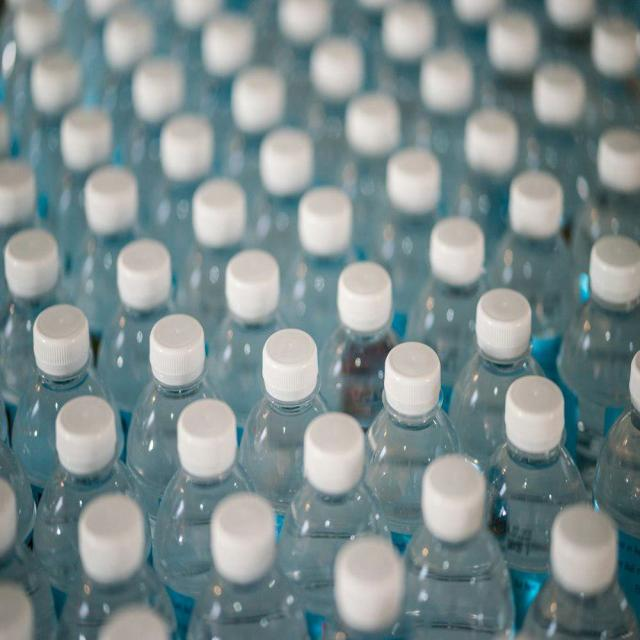plastic: (140, 116, 504, 607), (28, 293, 166, 638)
